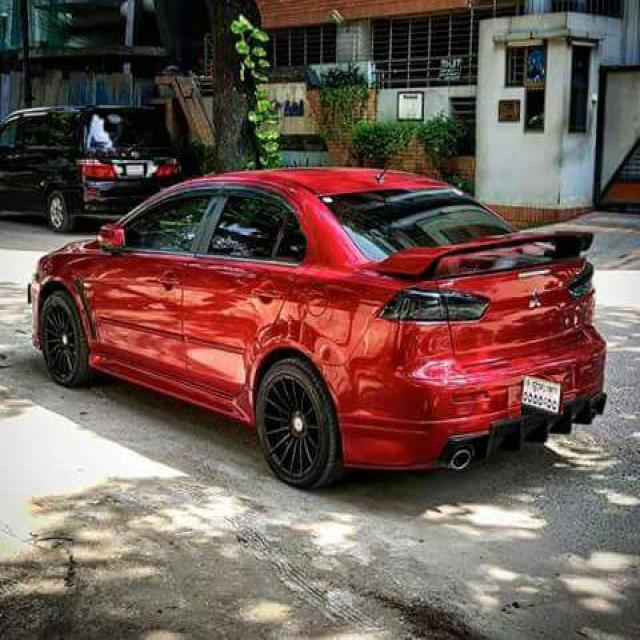numberplate: (521, 375, 563, 415)
